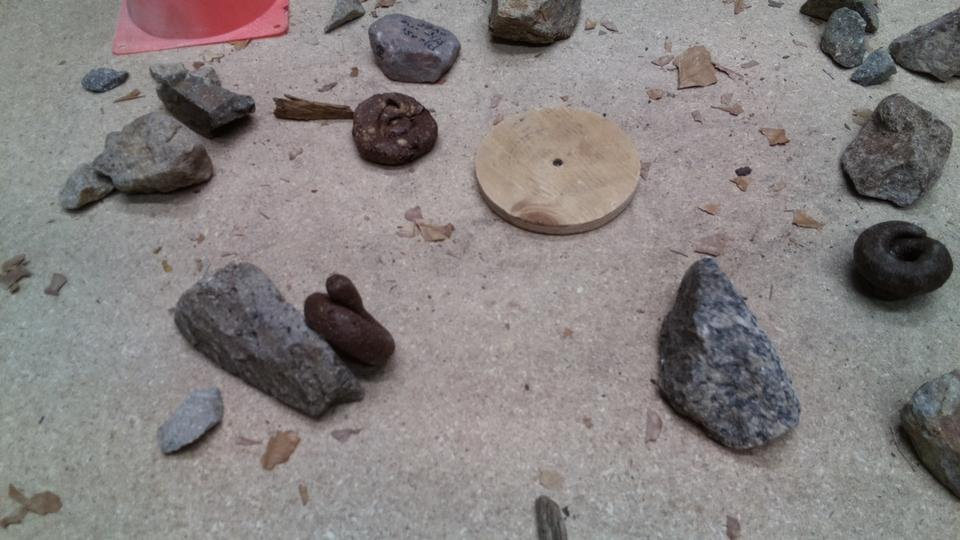poop: (303, 273, 395, 367), (851, 219, 954, 302), (351, 94, 442, 167)
